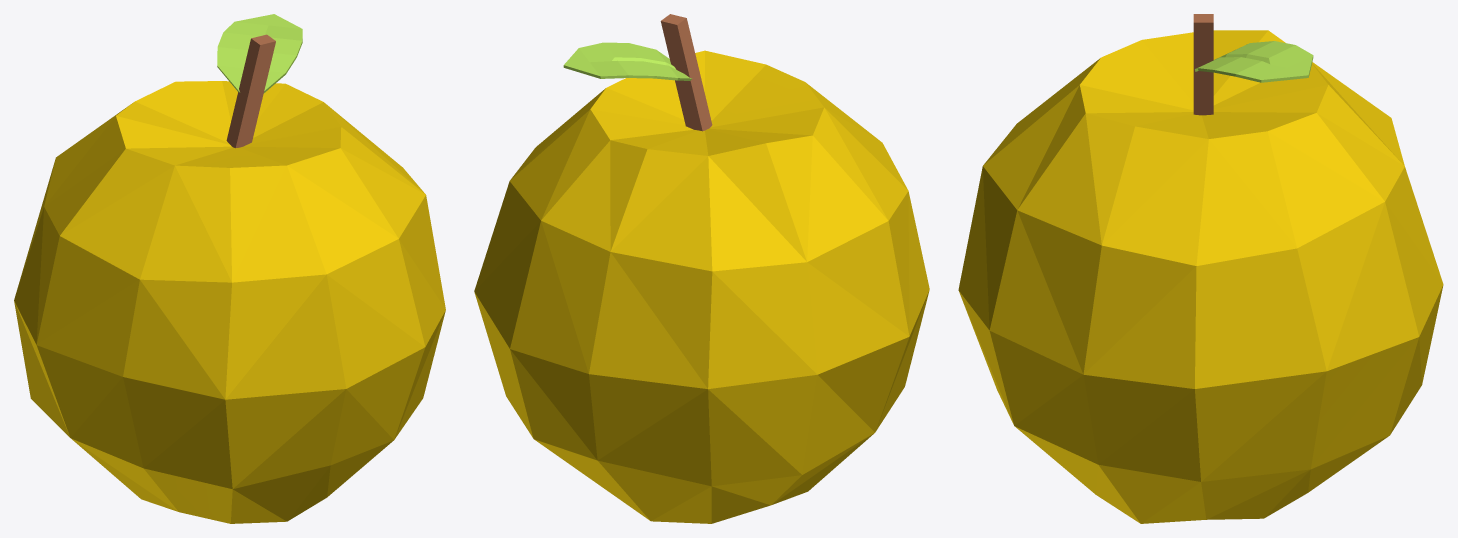
Rendered from Apple_01.fbx.
3 renders of one model, left to right at view 1: azimuth 30°, elevation 25°; view 2: azimuth 150°, elevation 25°; view 3: azimuth 270°, elevation 25°, orthographic. The views are drawn at different scales.
Parts seen in each view (by area): view 1: Apple_01; view 2: Apple_01; view 3: Apple_01.
Part boxes in pixels (<box>): Apple_01: <box>14,14,445,523</box>; Apple_01: <box>474,14,929,523</box>; Apple_01: <box>958,14,1443,523</box>.
Size of the model in its own units: 9.82 by 10.44 by 9.63.
